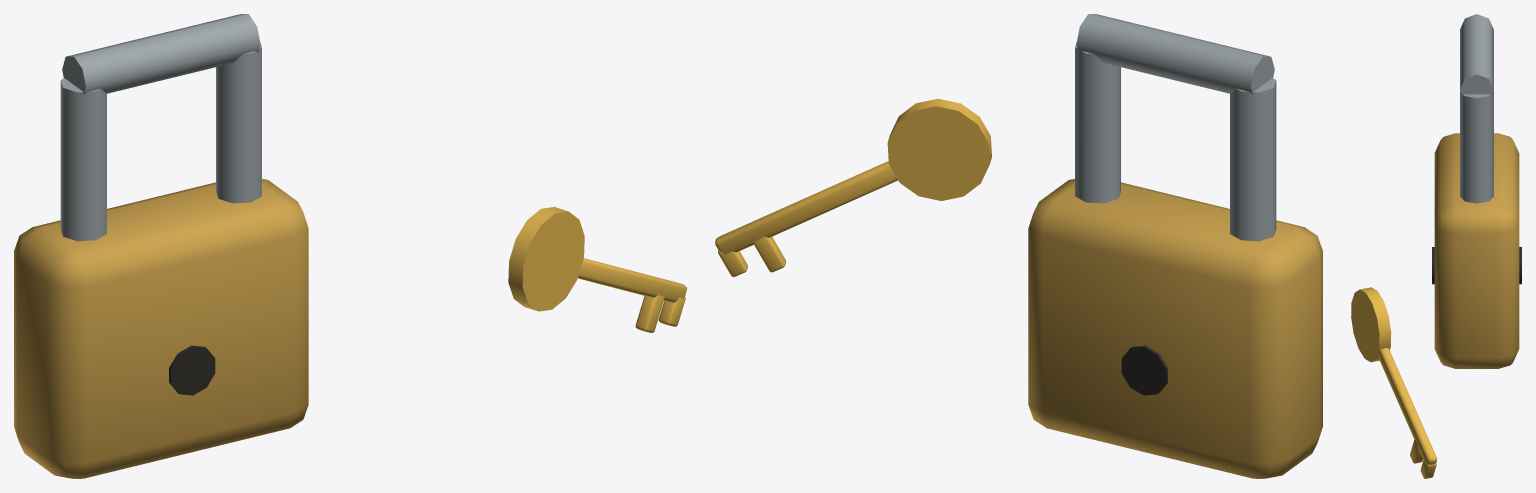
File: key_and_lock.glb
3 views of the same model, side by side, from view 1: azimuth 30°, elevation 25°; view 2: azimuth 150°, elevation 25°; view 3: azimuth 270°, elevation 25° (orthographic). The views are drawn at different scales.
Parts seen in each view (by area): view 1: lock, key; view 2: lock, key; view 3: lock, key.
Boxes of the visible parts, bbox=[...] form: lock: bbox=[14, 14, 308, 478]; key: bbox=[508, 207, 686, 332]; lock: bbox=[1028, 14, 1322, 478]; key: bbox=[715, 98, 991, 277]; lock: bbox=[1432, 14, 1521, 368]; key: bbox=[1351, 287, 1437, 478].
Bounding box in the file's own units: 0.4804 × 0.301 × 0.1615.
